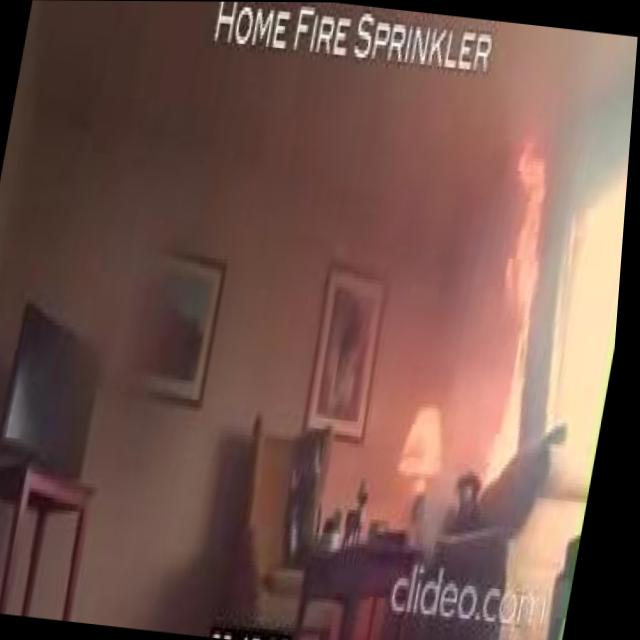fire: (462, 132, 576, 479)
